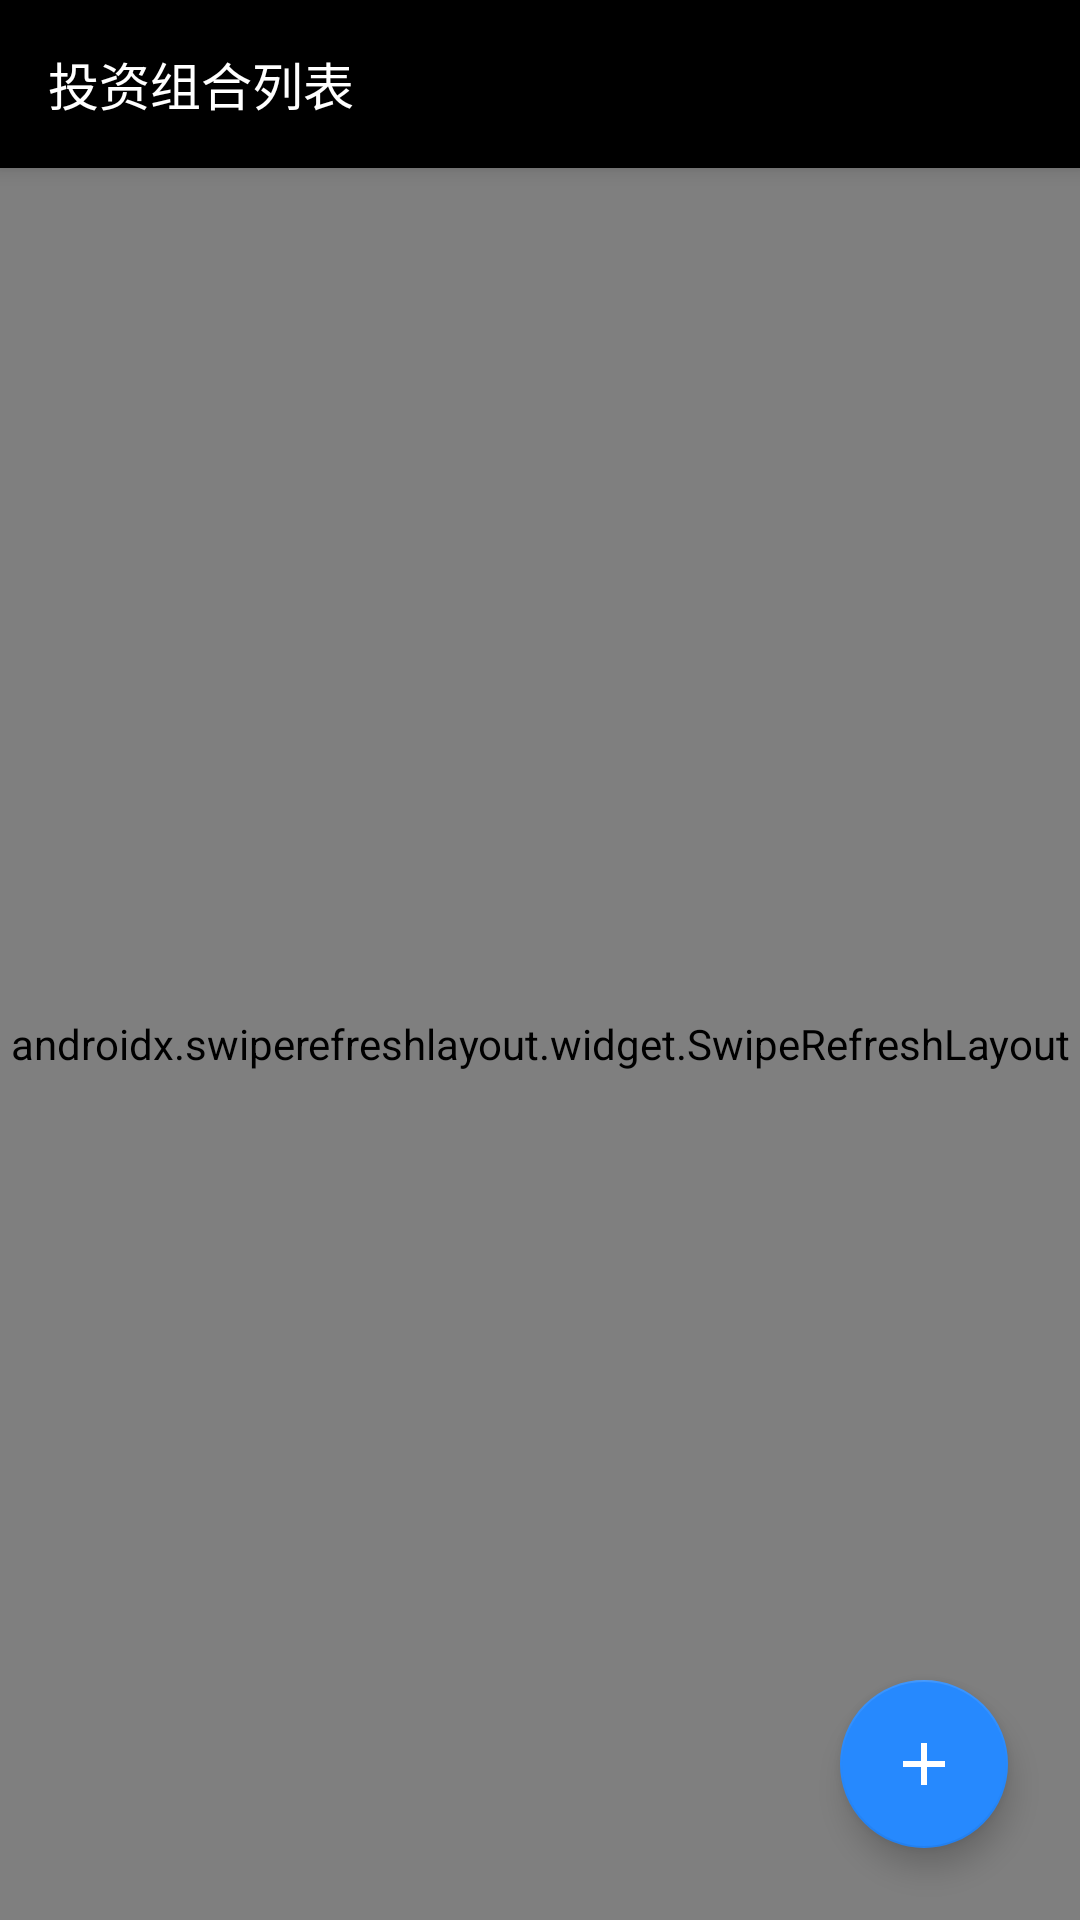

Screen size 1080px×1920px. Icon name, then its center in pixels as (x,y):
添加投资组合: (924,1764)
